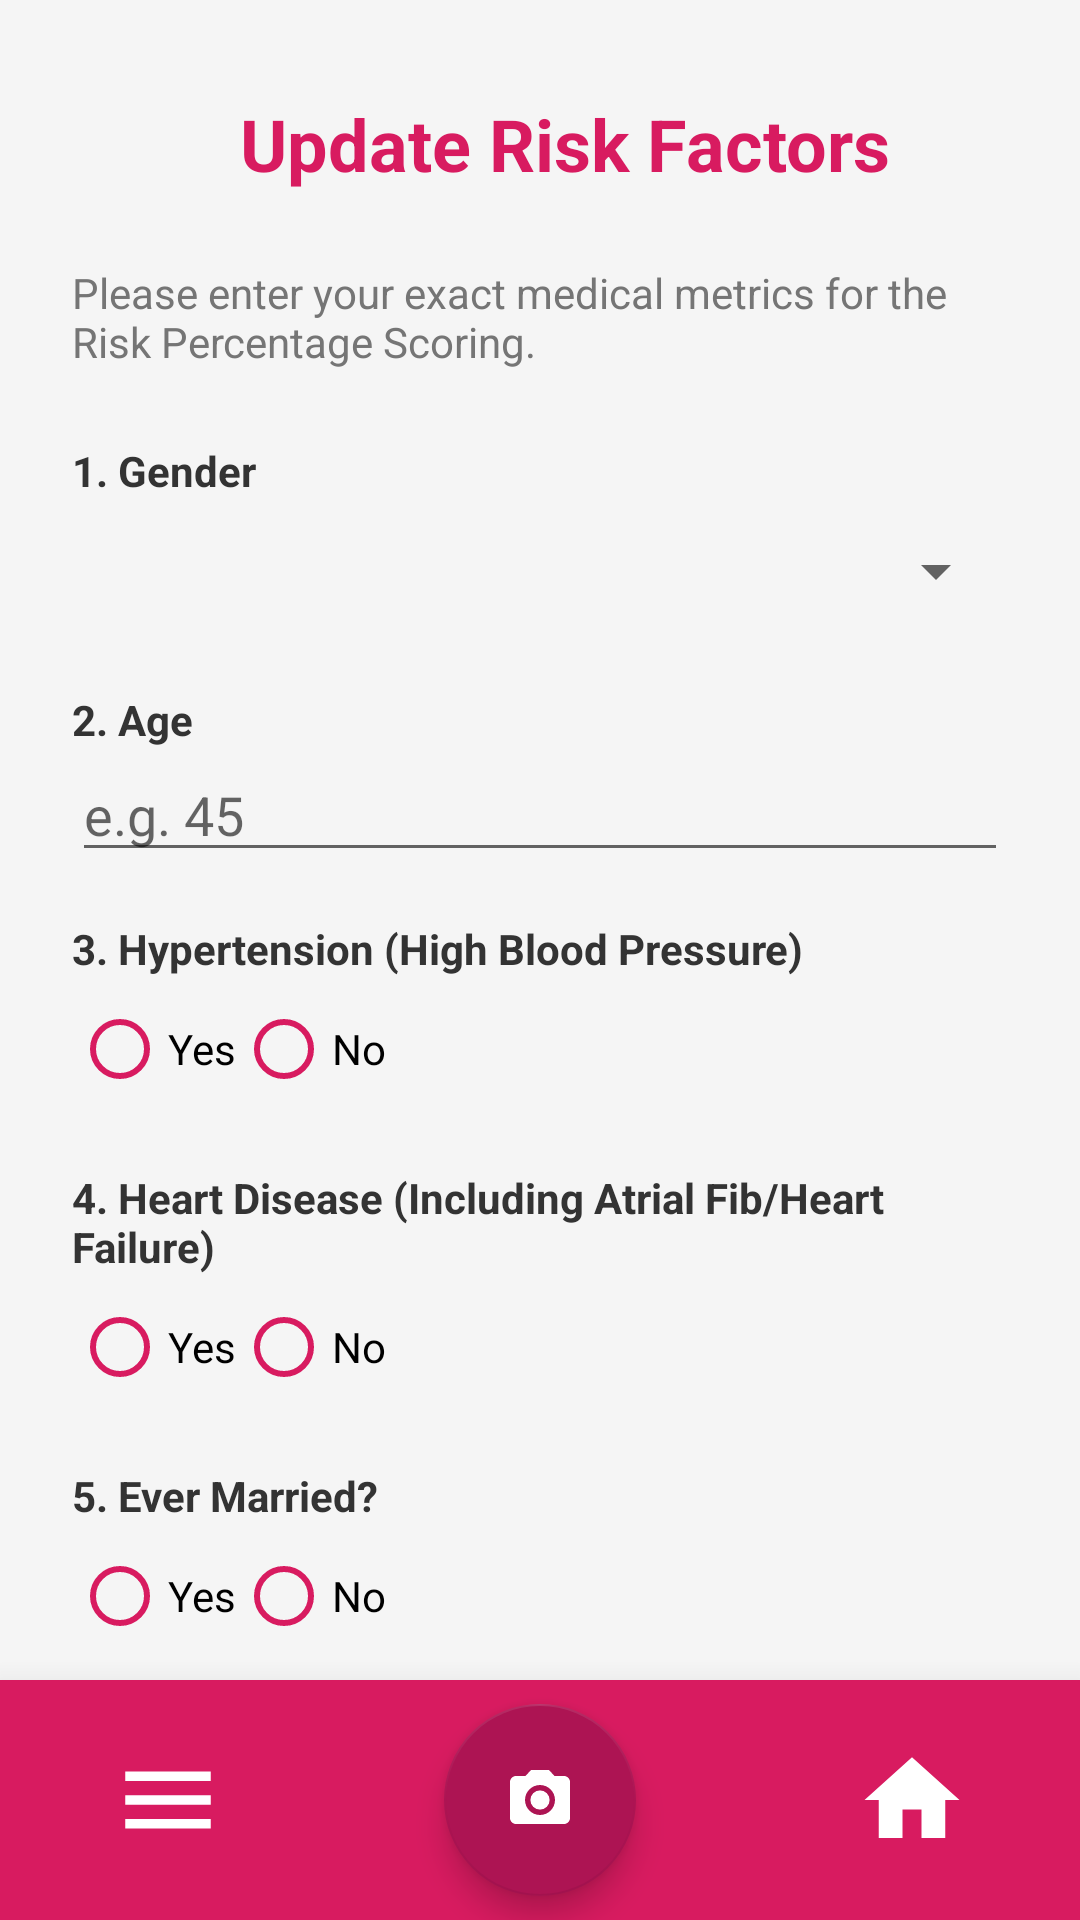

Icon bounding boxes for this 1080px×1920px phone screenshot, format bbox(x1, y1, x2, y2):
camera: bbox(444, 1704, 636, 1896)
home: bbox(865, 1757, 959, 1838)
menu: bbox(125, 1771, 211, 1829)
